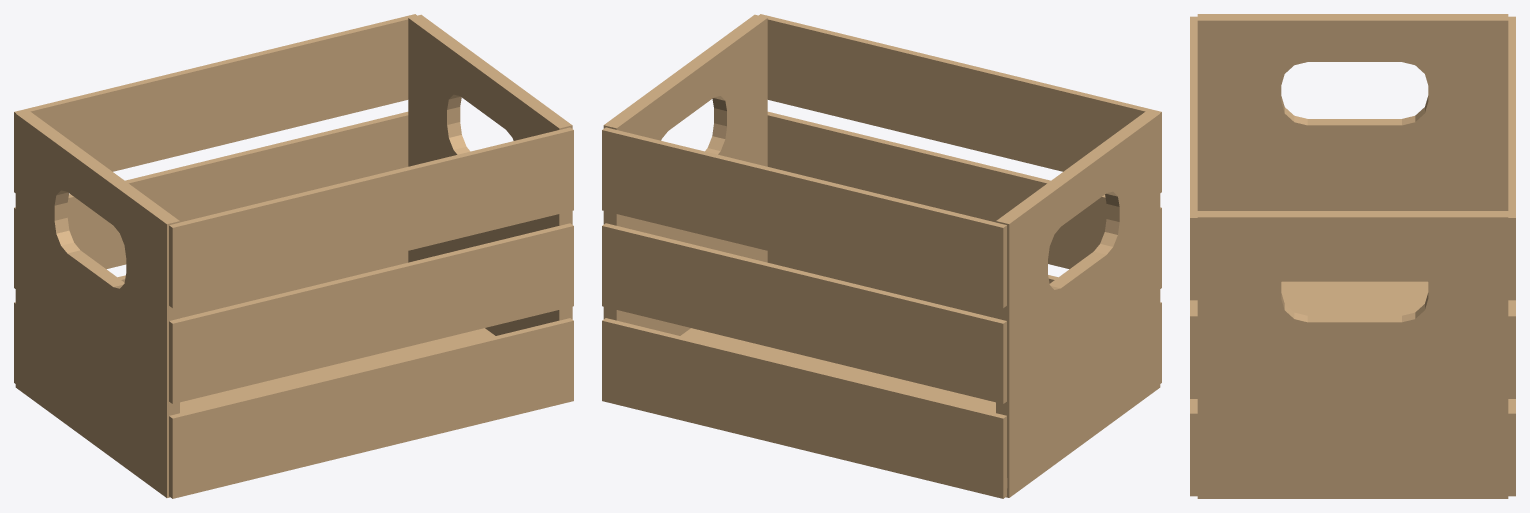
Rendered from SmallCrate.fbx.
The picture shows the model from 3 angles, left to right: view 1: azimuth 30°, elevation 25°; view 2: azimuth 150°, elevation 25°; view 3: azimuth 270°, elevation 25°; orthographic projection. The views are drawn at different scales.
Parts seen in each view (by area): view 1: Plane.003; view 2: Plane.003; view 3: Plane.003.
Boxes of the visible parts, <box> form: Plane.003: <box>14,14,573,498</box>; Plane.003: <box>602,14,1161,498</box>; Plane.003: <box>1190,14,1515,498</box>.
Size of the model in its own units: 310 by 200 by 210.
